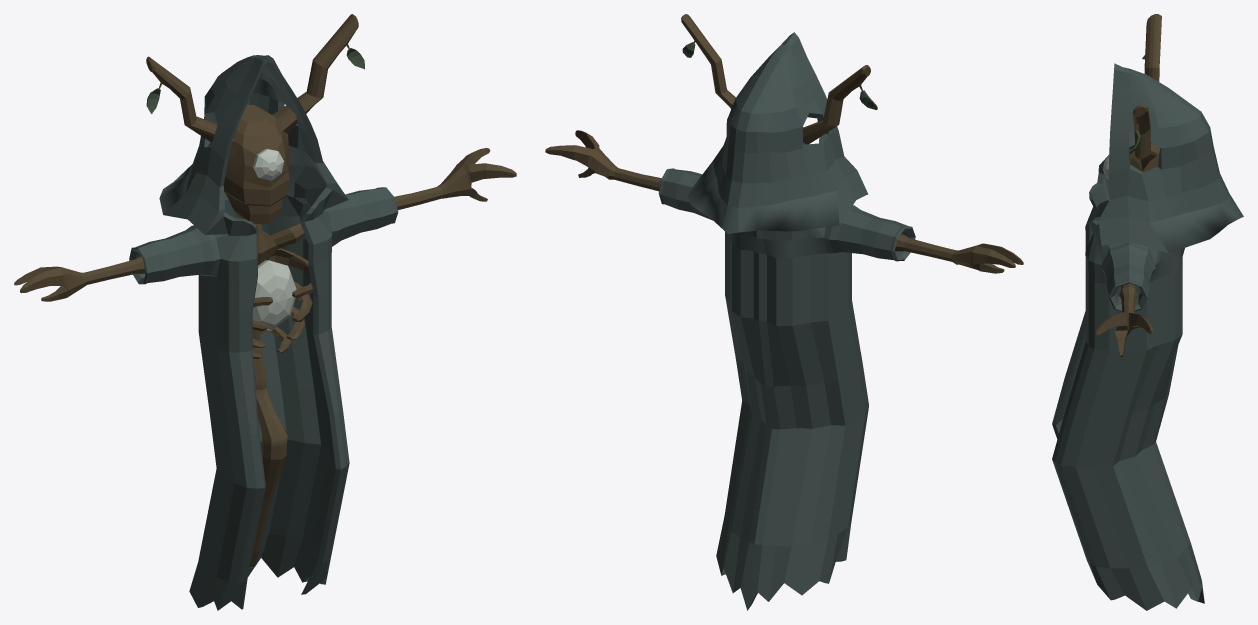
File: VillanoPre.fbx
3 renders of one model, left to right at view 1: azimuth 30°, elevation 25°; view 2: azimuth 150°, elevation 25°; view 3: azimuth 270°, elevation 25°, orthographic. The views are drawn at different scales.
Parts seen in each view (by area): view 1: Villano_principal; view 2: Villano_principal; view 3: Villano_principal.
Part boxes in pixels (x1,y1,x2,y2): Villano_principal: (14, 14, 516, 610); Villano_principal: (545, 14, 1023, 610); Villano_principal: (1052, 14, 1243, 610).
Bounding box in the file's own units: 2.23 × 2.54 × 0.8105.
